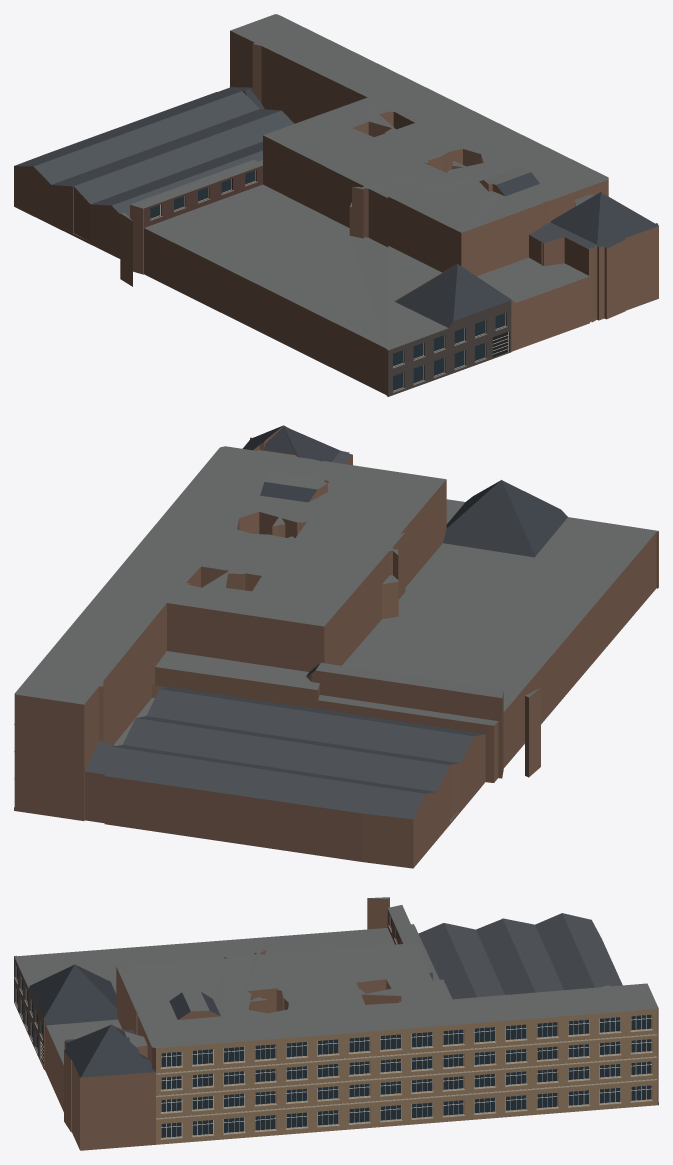
Rendered from recipe-large-hamerkanaal-175-112128.glb.
3 views of the same model, one above another, from view 1: azimuth 30°, elevation 25°; view 2: azimuth 150°, elevation 25°; view 3: azimuth 270°, elevation 25° (orthographic). The views are drawn at different scales.
Parts seen in each view (by area): view 1: hamerkanaal-175-112128; view 2: hamerkanaal-175-112128; view 3: hamerkanaal-175-112128.
Boxes of the visible parts, <box> form: hamerkanaal-175-112128: <box>14,14,658,396</box>; hamerkanaal-175-112128: <box>14,425,658,868</box>; hamerkanaal-175-112128: <box>14,897,658,1150</box>.
Bounding box in the file's own units: 60.16 × 15.55 × 86.2.
